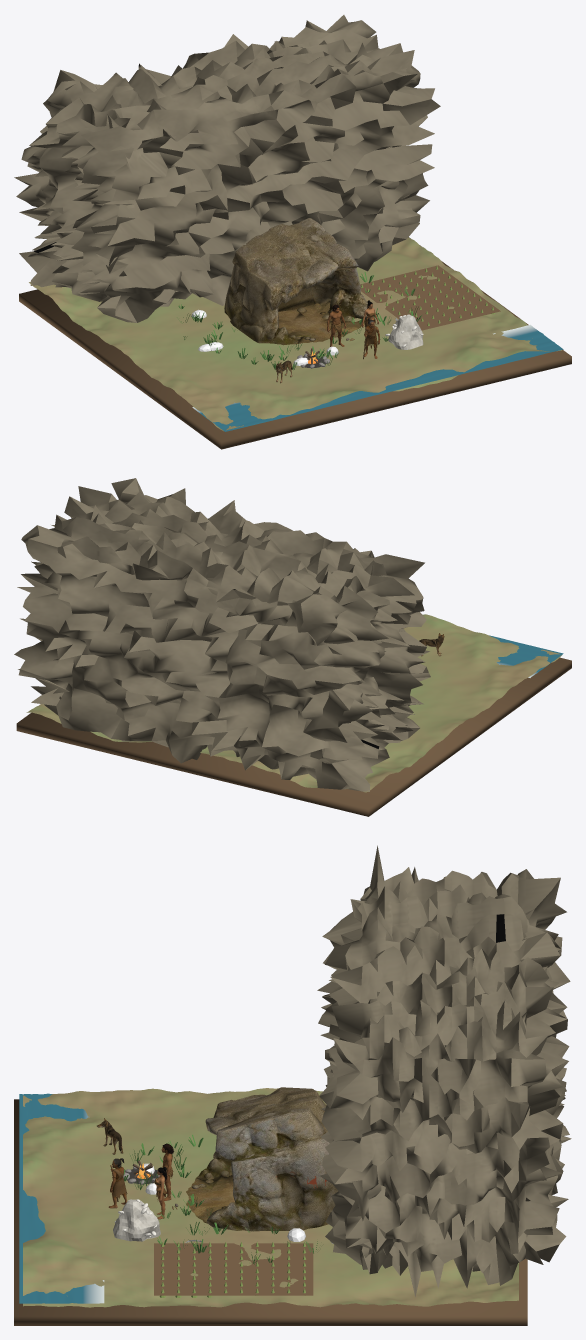
The model's file is mesolitikum.glb.
The picture shows the model from 3 angles, top to bottom: view 1: azimuth 30°, elevation 25°; view 2: azimuth 150°, elevation 25°; view 3: azimuth 270°, elevation 25°; orthographic projection. The views are drawn at different scales.
Visible parts, largest first — view 1: GEO-tebing, Terrain, gua, GEO-alas, ladang_tanah, GEO-air, grass, GEO-kjokkenmoddinger, ladang_tanaman; view 2: GEO-tebing, Terrain, GEO-alas, GEO-air; view 3: GEO-tebing, Terrain, gua, GEO-alas, ladang_tanah, GEO-air, GEO-kjokkenmoddinger, grass, ladang_tanaman, tetua.
Boxes of the visible parts, x1,y1,x2,y2 form: GEO-tebing: (14, 15, 440, 322); Terrain: (29, 237, 561, 431); gua: (224, 218, 367, 345); GEO-alas: (19, 237, 571, 449); ladang_tanah: (360, 265, 500, 330); GEO-air: (192, 324, 563, 431); grass: (177, 272, 421, 369); GEO-kjokkenmoddinger: (385, 314, 423, 349); ladang_tanaman: (361, 266, 494, 325); GEO-tebing: (14, 478, 430, 791); Terrain: (26, 614, 561, 792); GEO-alas: (16, 657, 571, 816); GEO-air: (489, 635, 563, 677); GEO-tebing: (317, 845, 571, 1296); Terrain: (23, 1088, 518, 1307); gua: (186, 1087, 338, 1231); GEO-alas: (14, 1099, 527, 1325); ladang_tanah: (154, 1243, 313, 1295); GEO-air: (19, 1093, 104, 1303); GEO-kjokkenmoddinger: (113, 1199, 160, 1241); grass: (123, 1134, 317, 1264); ladang_tanaman: (159, 1241, 305, 1297); tetua: (108, 1158, 127, 1208).
Size of the model in its own units: 15 by 8.86 by 15.75.
Materials: 25 (14 with a texture image).
